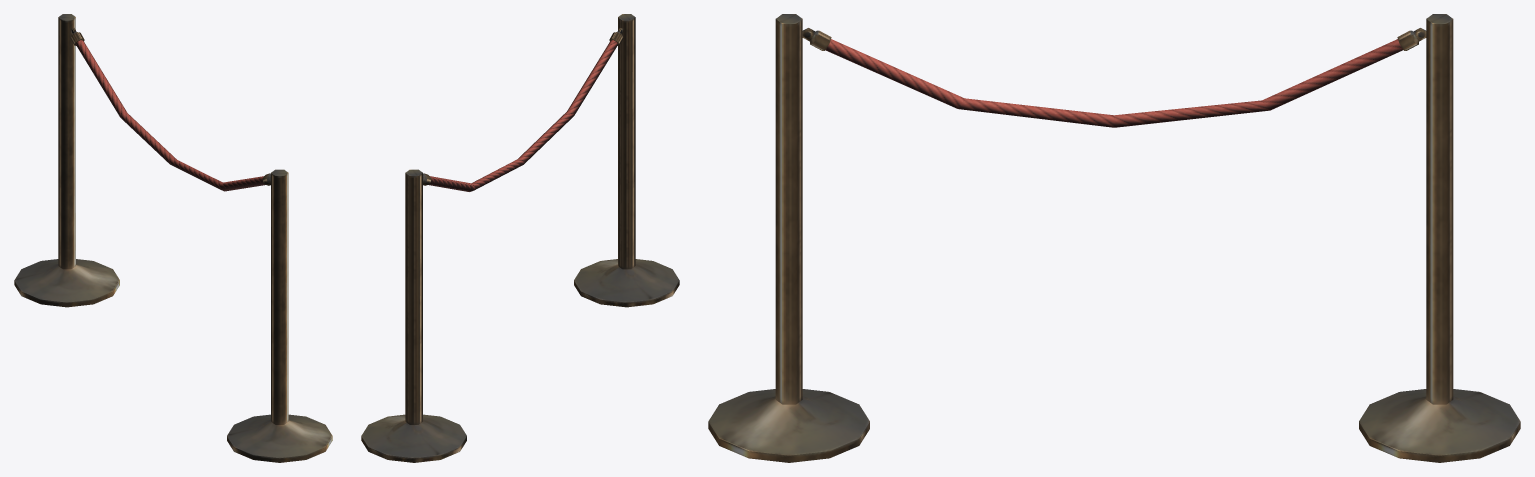
The model's file is Corde_01.fbx.
The picture shows the model from 3 angles, left to right: view 1: azimuth 30°, elevation 25°; view 2: azimuth 150°, elevation 25°; view 3: azimuth 270°, elevation 25°; orthographic projection. The views are drawn at different scales.
Visible parts, largest first — view 1: Corde_01; view 2: Corde_01; view 3: Corde_01.
Part boxes in pixels (bbox=[...]): Corde_01: bbox=[14, 14, 332, 462]; Corde_01: bbox=[361, 14, 679, 462]; Corde_01: bbox=[708, 14, 1520, 462].
Size of the model in its own units: 38.09 by 106 by 191.
